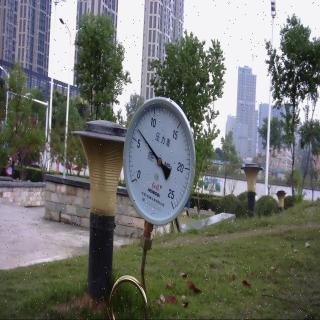gauge: (123, 89, 197, 233), (158, 188, 178, 215), (126, 171, 142, 186), (154, 156, 164, 166), (137, 126, 142, 134)
